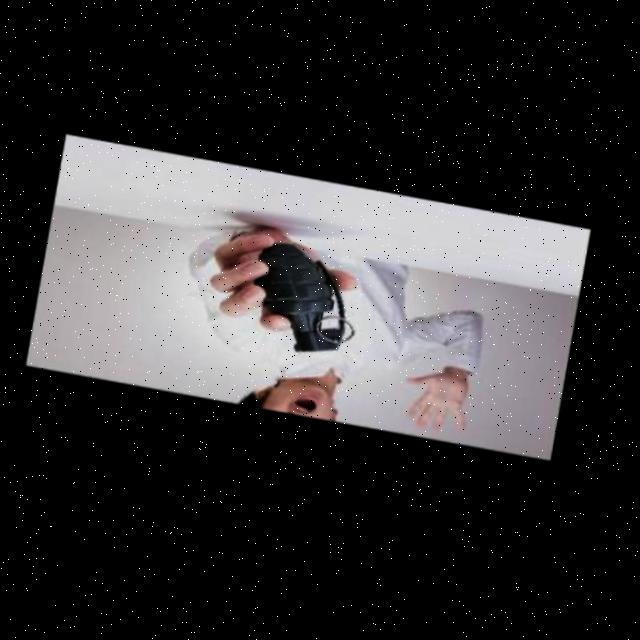grenade: (204, 222, 377, 369)
